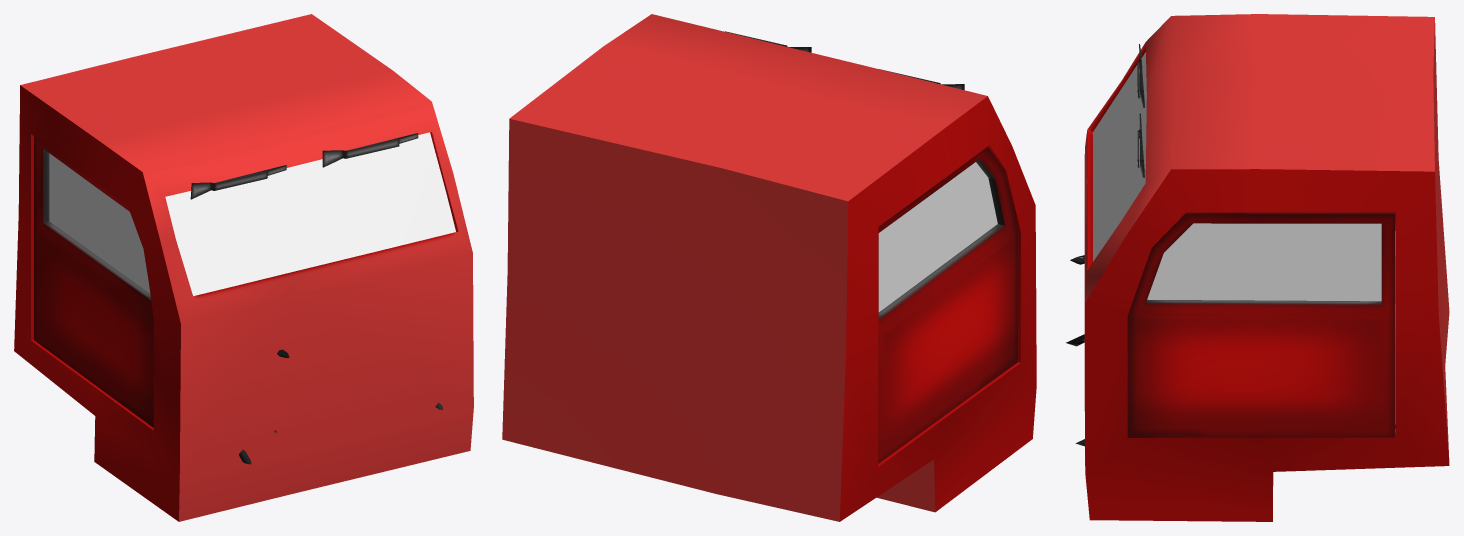
The model's file is carInside.FBX.
3 views of the same model, side by side, from view 1: azimuth 30°, elevation 25°; view 2: azimuth 150°, elevation 25°; view 3: azimuth 270°, elevation 25° (orthographic). The views are drawn at different scales.
Visible parts, largest first — view 1: car_outside_false, Object055, car_door1_r, car_door2_r, Box083, Box084; view 2: car_outside_false, car_door1_r, car_door2_r; view 3: car_outside_false, car_door1_l, car_door2_l, Object055.
Boxes of the visible parts, box(x1,y1,x2,y2) form: car_outside_false: box(14, 14, 473, 521); Object055: box(165, 132, 455, 296); car_door1_r: box(34, 136, 153, 427); car_door2_r: box(49, 153, 150, 293); Box083: box(322, 133, 418, 167); Box084: box(190, 165, 286, 199); car_outside_false: box(502, 14, 1036, 521); car_door1_r: box(878, 146, 1017, 463); car_door2_r: box(878, 162, 997, 312); car_outside_false: box(1084, 14, 1449, 521); car_door1_l: box(1127, 212, 1394, 437); car_door2_l: box(1147, 223, 1381, 301); Object055: box(1093, 52, 1146, 261).
Bounding box in the file's own units: 85.75 × 86.3 × 85.07.
